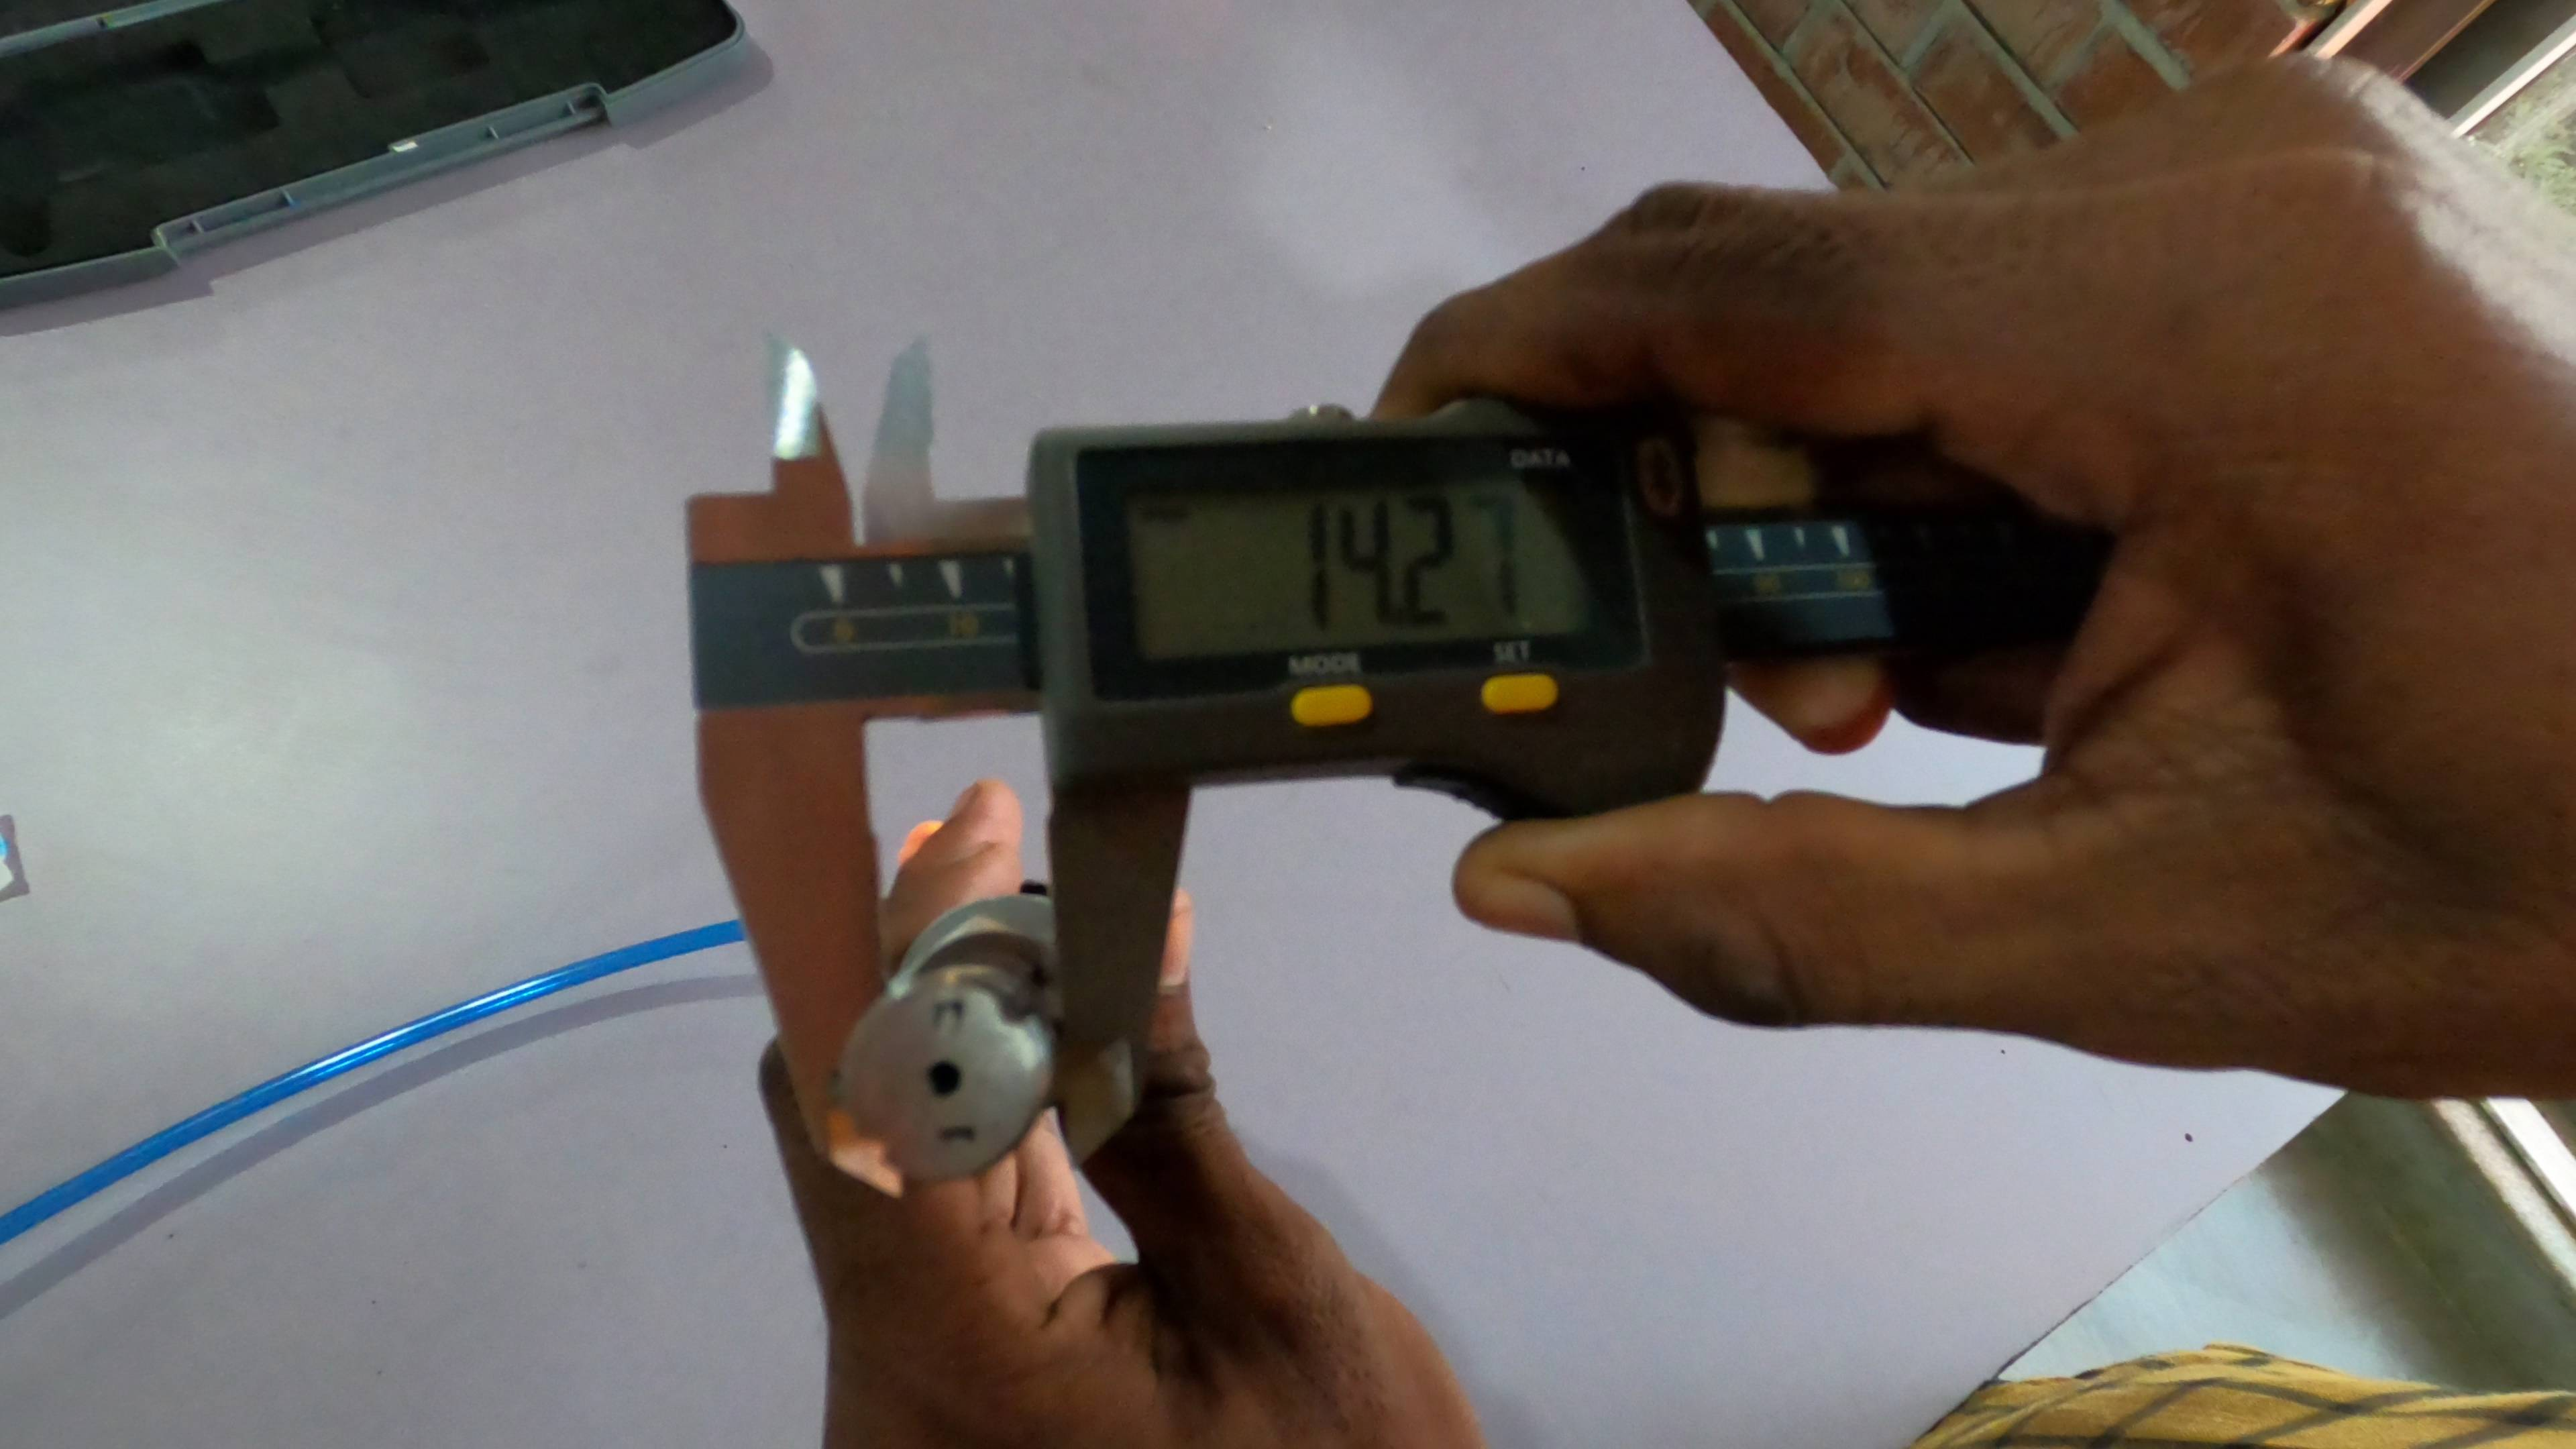vernier_caliper: (690, 327, 2107, 1196)
